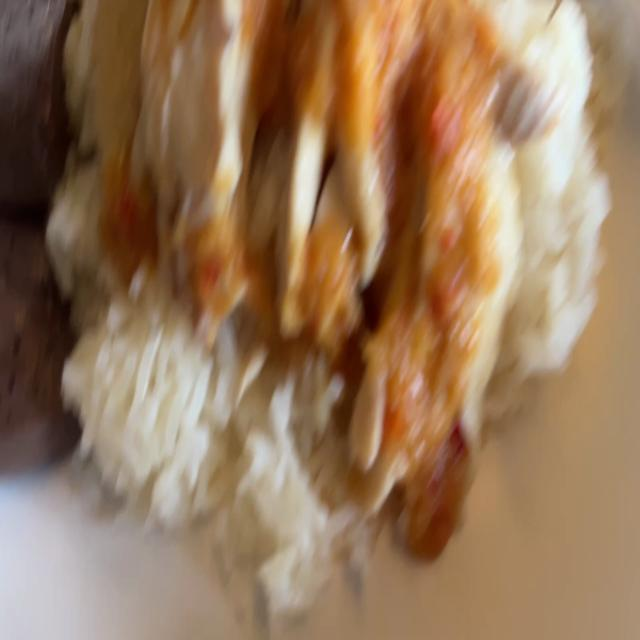boiled_chicken: (75, 0, 497, 527)
boiled_chicken_blood_jelly: (0, 184, 82, 467), (0, 0, 73, 218)
chicken_rice: (0, 0, 607, 640)
